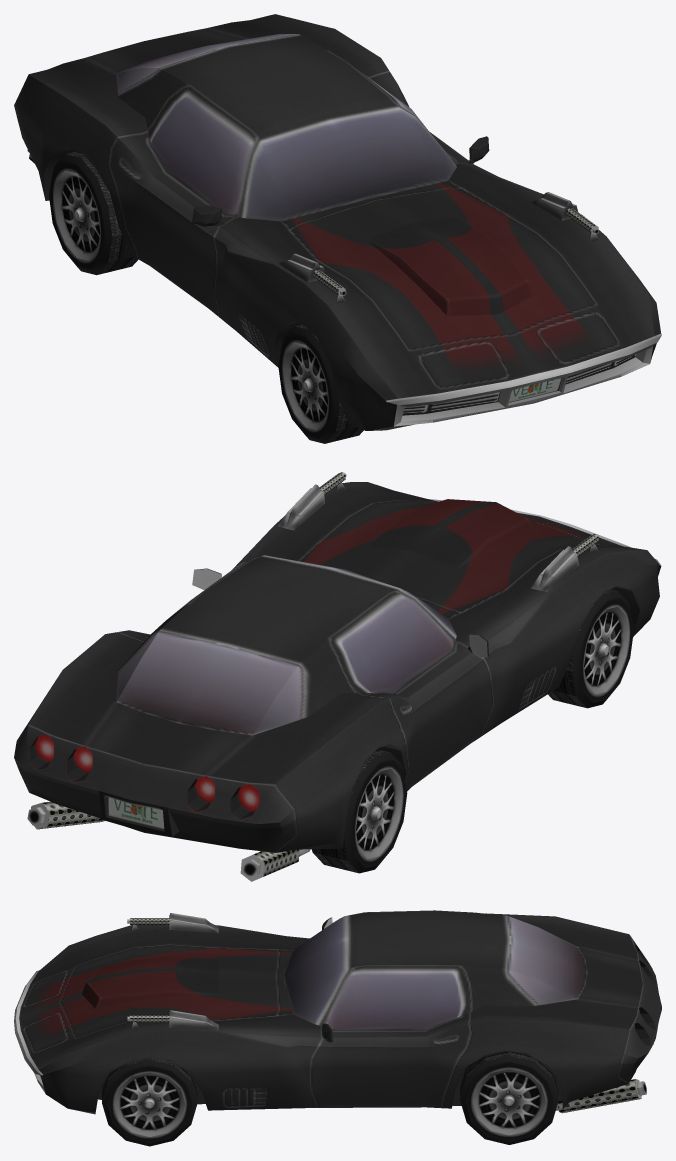
The model's file is corvette.obj.
3 renders of one model, top to bottom at view 1: azimuth 30°, elevation 25°; view 2: azimuth 150°, elevation 25°; view 3: azimuth 270°, elevation 25°, orthographic. The views are drawn at different scales.
Parts seen in each view (by area): view 1: Corvette:vette_body, Corvette:vette_body Corvette:wheel4, Corvette:vette_body Corvette:wheel3; view 2: Corvette:vette_body, Corvette:vette_body Corvette:wheel4, Corvette:vette_body Corvette:wheel3; view 3: Corvette:vette_body, Corvette:vette_body Corvette:wheel2, Corvette:vette_body Corvette:wheel1.
Boxes of the visible parts, x1=… form: Corvette:vette_body: x1=14, y1=14, x2=661, y2=430; Corvette:vette_body Corvette:wheel4: x1=49, y1=151, x2=138, y2=275; Corvette:vette_body Corvette:wheel3: x1=278, y1=324, x2=363, y2=443; Corvette:vette_body: x1=14, y1=472, x2=661, y2=881; Corvette:vette_body Corvette:wheel4: x1=312, y1=749, x2=407, y2=873; Corvette:vette_body Corvette:wheel3: x1=548, y1=589, x2=633, y2=708; Corvette:vette_body: x1=14, y1=910, x2=661, y2=1114; Corvette:vette_body Corvette:wheel2: x1=460, y1=1051, x2=558, y2=1144; Corvette:vette_body Corvette:wheel1: x1=102, y1=1058, x2=197, y2=1146.
Bounding box in the file's own units: 8.47 × 5.24 × 19.86.
Materials: 1 (1 with a texture image).
